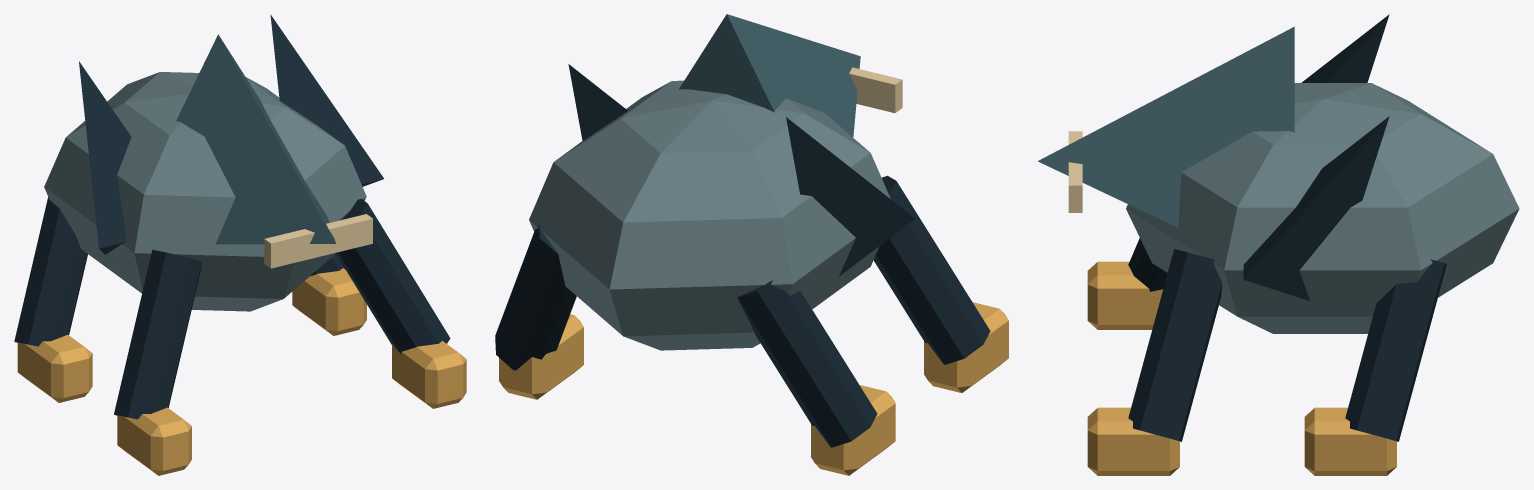
File: pursuer.glb
The picture shows the model from 3 angles, left to right: view 1: azimuth 30°, elevation 25°; view 2: azimuth 150°, elevation 25°; view 3: azimuth 270°, elevation 25°; orthographic projection. The views are drawn at different scales.
Visible parts, largest first — view 1: pursuer_solid; view 2: pursuer_solid; view 3: pursuer_solid.
Part boxes in pixels (bbox=[...]): pursuer_solid: bbox=[14, 14, 466, 475]; pursuer_solid: bbox=[495, 14, 1008, 475]; pursuer_solid: bbox=[1038, 14, 1519, 475].
Bounding box in the file's own units: 1.03 × 1.01 × 1.2.
